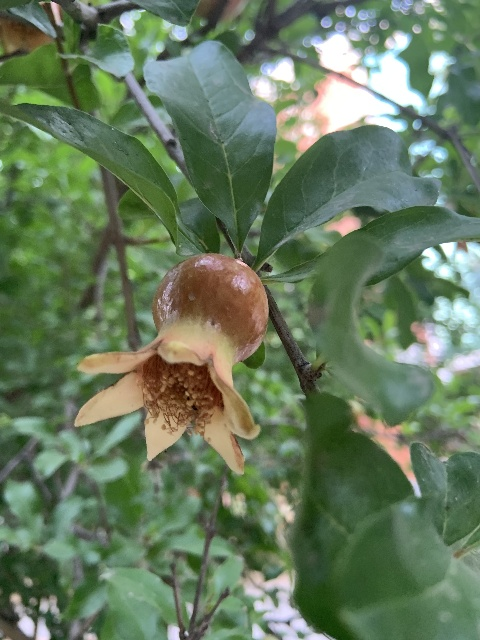early-fruit: (73, 252, 269, 474)
